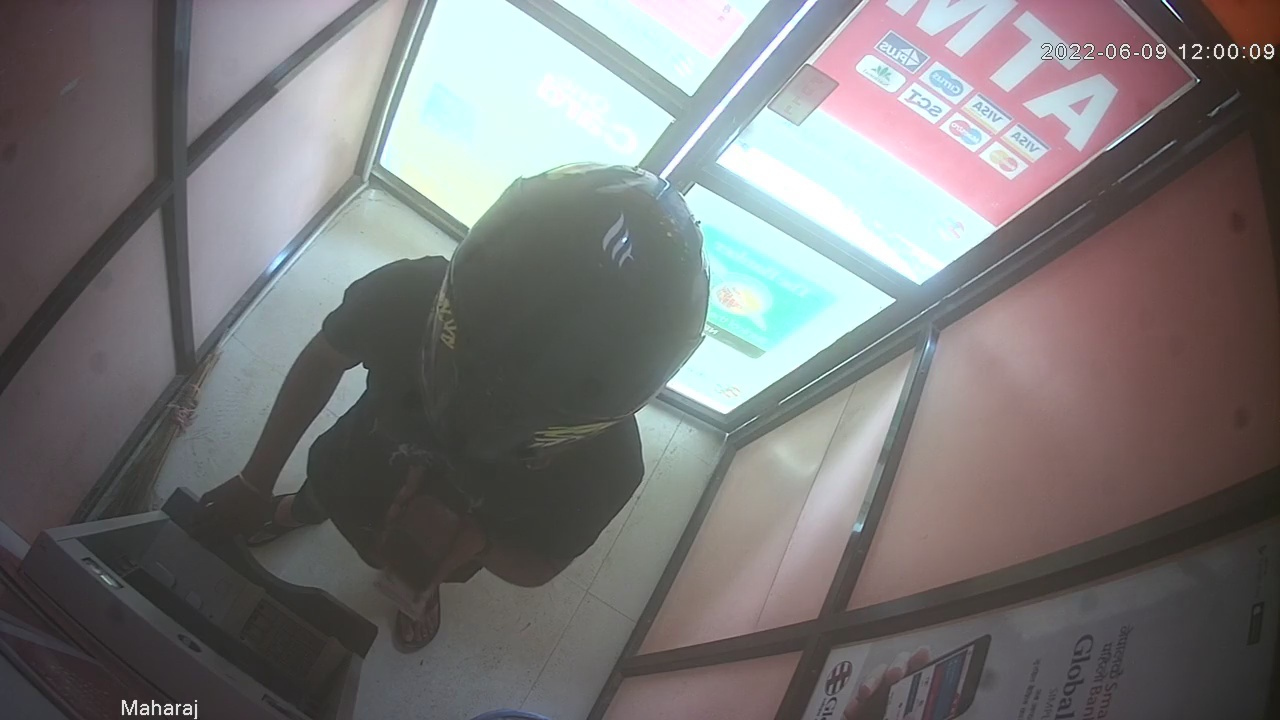helmet: (412, 160, 707, 465)
person: (203, 159, 713, 655)
